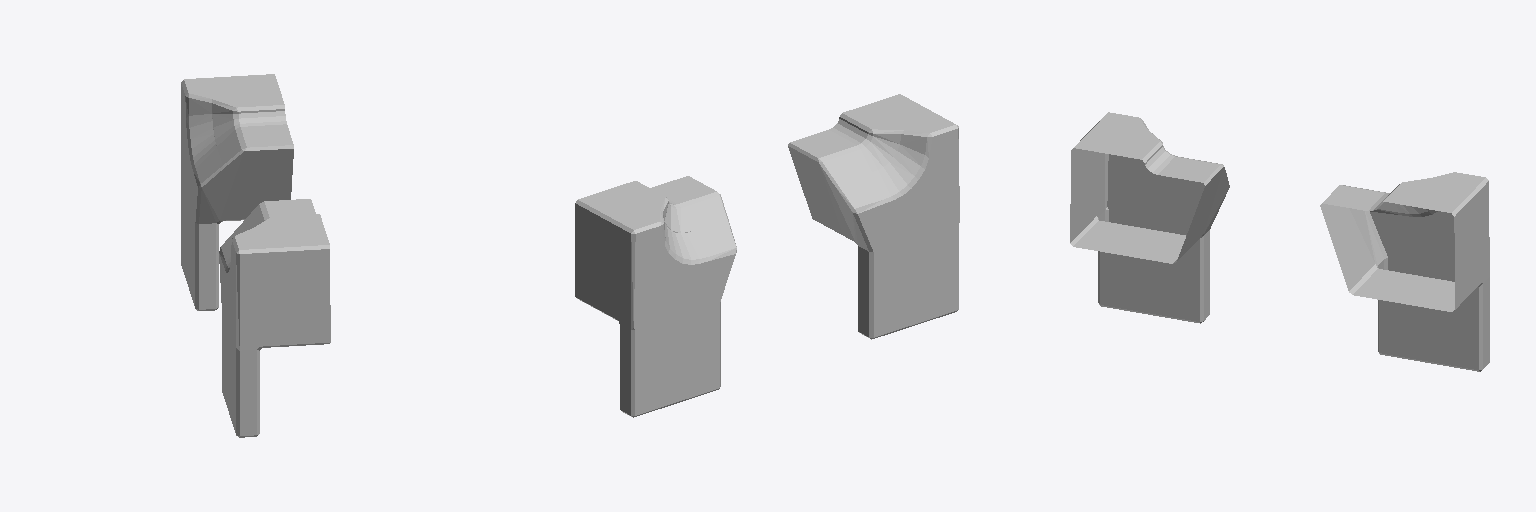
The picture shows the model from 3 angles: view 1: azimuth 30°, elevation 25°; view 2: azimuth 150°, elevation 25°; view 3: azimuth 270°, elevation 25°; orthographic projection.
Visible parts, largest first — view 1: Bistro_Research_Exterior_paris_building_11_5871; view 2: Bistro_Research_Exterior_paris_building_11_5871; view 3: Bistro_Research_Exterior_paris_building_11_5871.
Boxes of the visible parts, box(x1,y1,x2,y2) form: Bistro_Research_Exterior_paris_building_11_5871: box(181, 74, 330, 437); Bistro_Research_Exterior_paris_building_11_5871: box(575, 94, 959, 417); Bistro_Research_Exterior_paris_building_11_5871: box(1070, 112, 1489, 371).
Bounding box in the file's own units: 1.25 × 1.06 × 2.15.